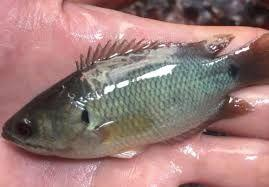Climbing Perch: (0, 32, 269, 161)
